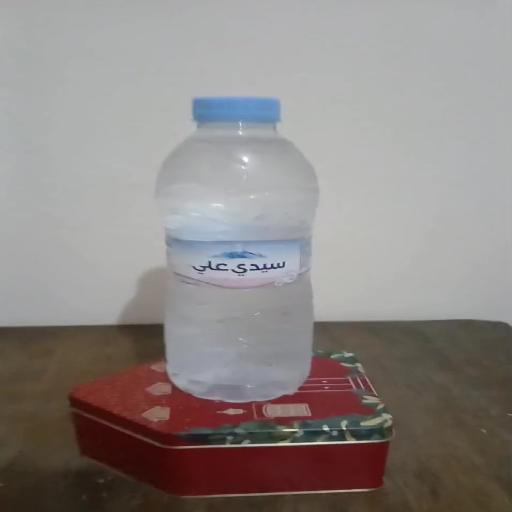bouteille conformite: (156, 97, 317, 401)
